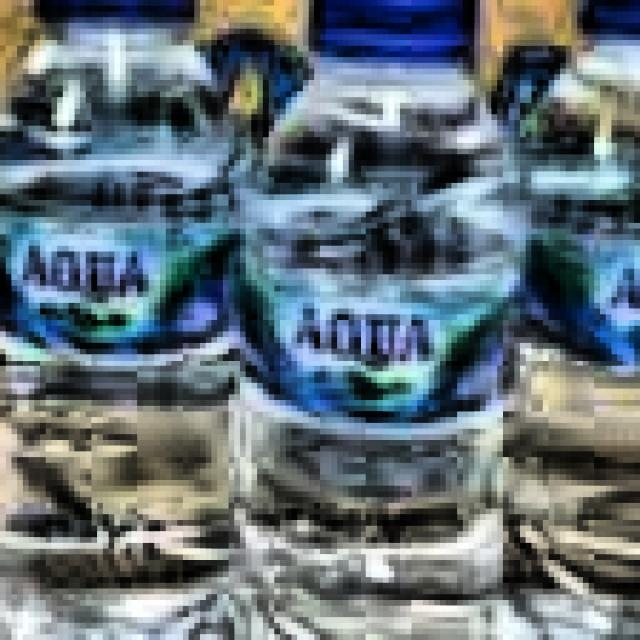plastic: (252, 0, 497, 640), (0, 0, 234, 640), (520, 0, 640, 640)
